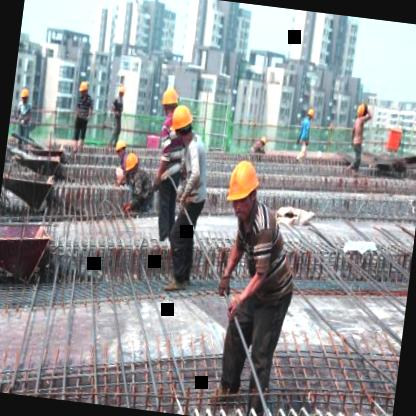helmet: (221, 152, 266, 228), (168, 101, 196, 142), (160, 86, 180, 120), (122, 148, 141, 176), (354, 98, 369, 124), (112, 136, 127, 160), (74, 78, 89, 102), (18, 83, 31, 107), (116, 82, 127, 104), (304, 106, 314, 126)
